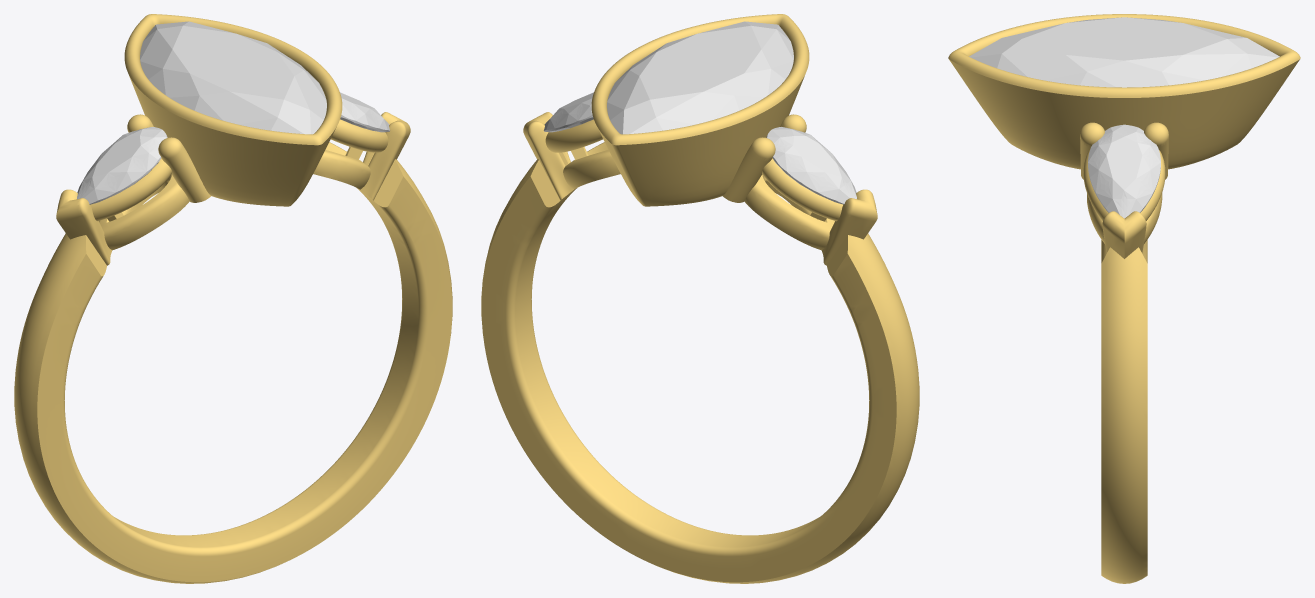
File: JustinYGv3_blender.glb
The picture shows the model from 3 angles, left to right: view 1: azimuth 30°, elevation 25°; view 2: azimuth 150°, elevation 25°; view 3: azimuth 270°, elevation 25°; orthographic projection.
Parts seen in each view (by area): view 1: Justin YG 5x3 for 3d model, Justin marquise dia for 3d model, Justin 5x3 pear dia for 3d model.001, Justin 5x3 pear dia for 3d model; view 2: Justin YG 5x3 for 3d model, Justin marquise dia for 3d model, Justin 5x3 pear dia for 3d model.001, Justin 5x3 pear dia for 3d model; view 3: Justin YG 5x3 for 3d model, Justin marquise dia for 3d model, Justin 5x3 pear dia for 3d model.
Boxes of the visible parts, x1=… form: Justin YG 5x3 for 3d model: x1=14, y1=14, x2=452, y2=583; Justin marquise dia for 3d model: x1=140, y1=21, x2=326, y2=134; Justin 5x3 pear dia for 3d model.001: x1=77, y1=127, x2=167, y2=204; Justin 5x3 pear dia for 3d model: x1=340, y1=92, x2=389, y2=132; Justin YG 5x3 for 3d model: x1=481, y1=14, x2=919, y2=583; Justin marquise dia for 3d model: x1=607, y1=21, x2=793, y2=134; Justin 5x3 pear dia for 3d model.001: x1=766, y1=127, x2=856, y2=204; Justin 5x3 pear dia for 3d model: x1=543, y1=92, x2=593, y2=132; Justin YG 5x3 for 3d model: x1=948, y1=14, x2=1300, y2=583; Justin marquise dia for 3d model: x1=969, y1=17, x2=1279, y2=87; Justin 5x3 pear dia for 3d model: x1=1088, y1=124, x2=1160, y2=218.
Size of the model in its own units: 20.7 by 23.65 by 14.49.
